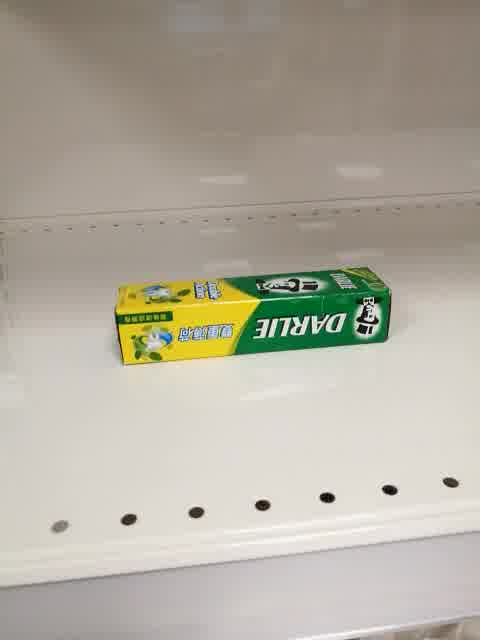toothpaste: (114, 266, 392, 364)
